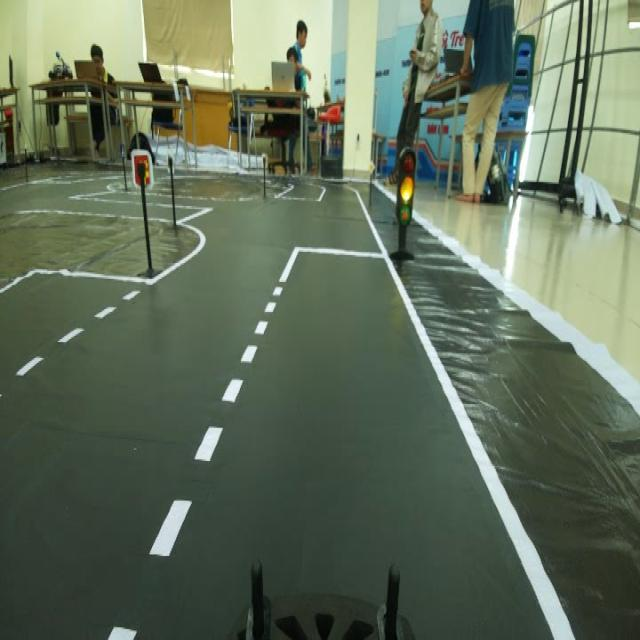trafficlight: (384, 137, 425, 291)
